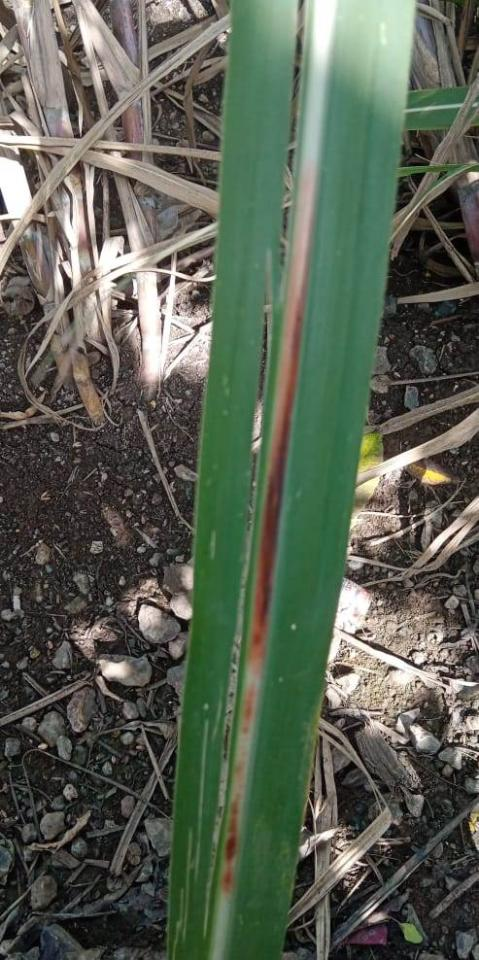RedRot: (220, 155, 320, 898)
